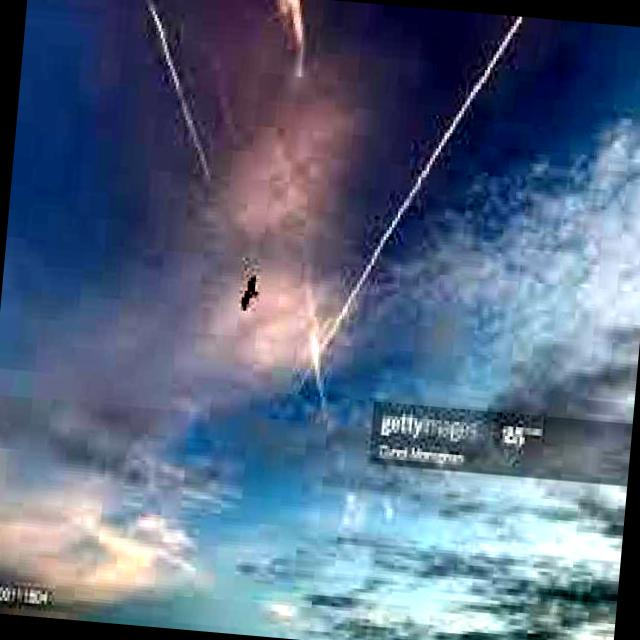bird: (238, 272, 266, 314)
